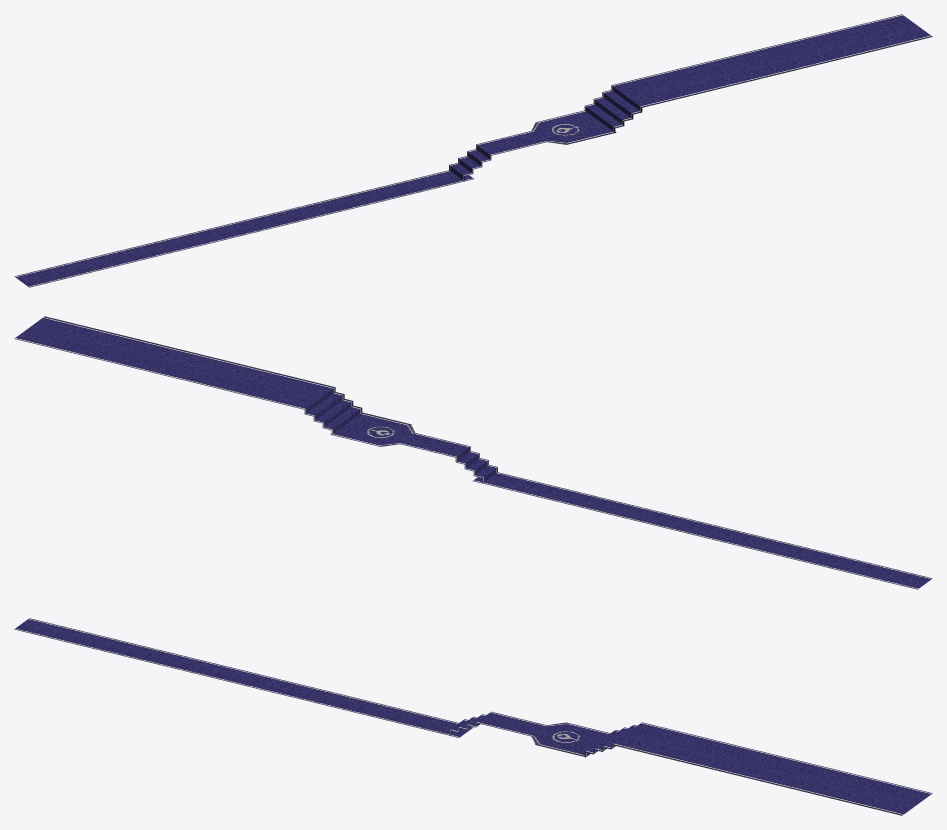
Rendered from ObjMD_Seido_Carpet_A.FBX.
The picture shows the model from 3 angles, top to bottom: view 1: azimuth 30°, elevation 25°; view 2: azimuth 150°, elevation 25°; view 3: azimuth 330°, elevation 25°; orthographic projection.
Visible parts, largest first — view 1: ObjMD_Seido_Carpet_A; view 2: ObjMD_Seido_Carpet_A; view 3: ObjMD_Seido_Carpet_A.
Part boxes in pixels (x1,y1,x2,y2): ObjMD_Seido_Carpet_A: (14, 14, 932, 287); ObjMD_Seido_Carpet_A: (14, 316, 932, 589); ObjMD_Seido_Carpet_A: (14, 618, 932, 815).
Size of the model in its own units: 5031 by 203 by 300.
